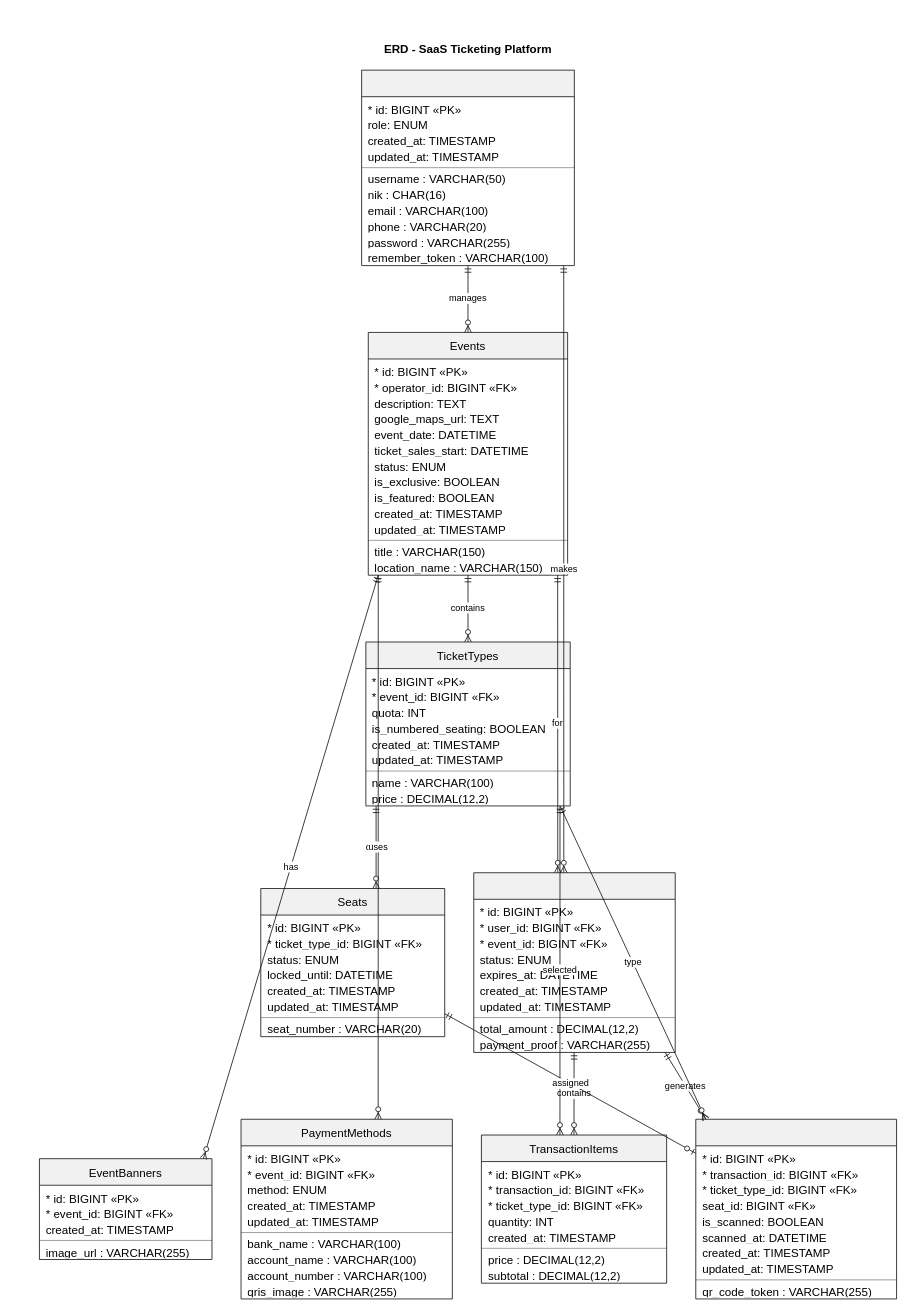
The diagram is 911 pixels wide and 1313 high, and some of its shapes have lost their labels. Each missing label, with the box of its shape:
Tickets: (695, 1118, 897, 1299)
Transactions: (473, 872, 675, 1052)
Users: (361, 69, 574, 266)
